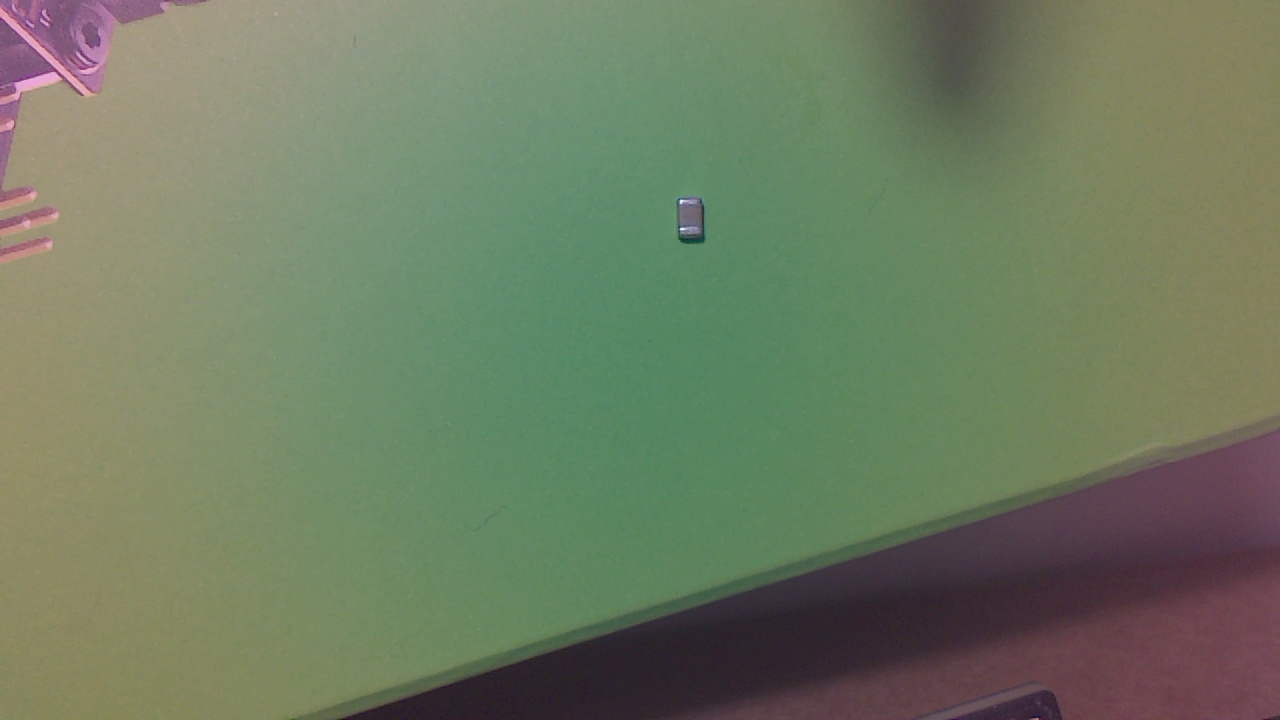Condensator: (681, 202, 711, 247)
